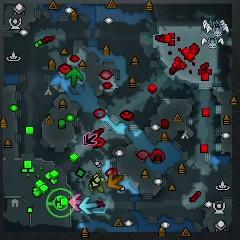x1: (69, 193, 82, 211)
x1Clone: (82, 134, 93, 146), (86, 133, 97, 144)
x2: (89, 177, 105, 193)
x3: (79, 197, 98, 214)
x4: (65, 68, 83, 86)
x5: (107, 172, 124, 190)
